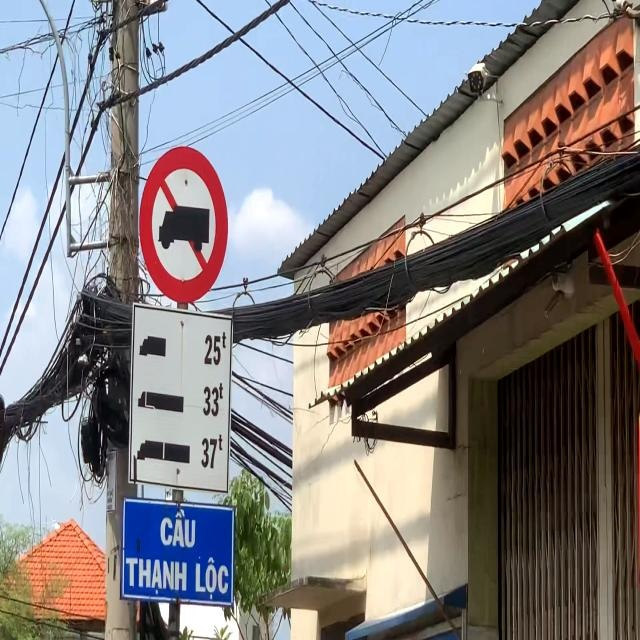bien_cam: (137, 144, 229, 304)
